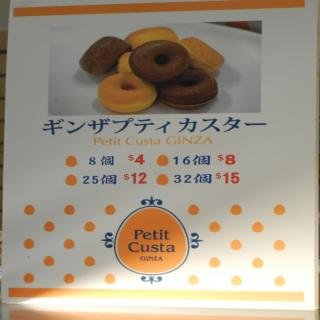Doughnut: (80, 28, 224, 115), (131, 38, 189, 81)
